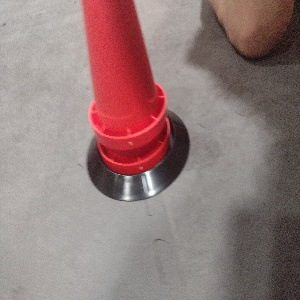Red_2: (72, 0, 174, 172)
